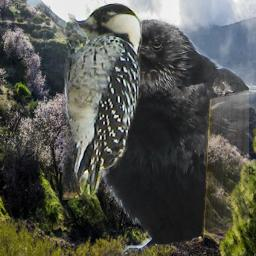Crow: (98, 17, 249, 255)
Woodpecker: (62, 2, 142, 200)
